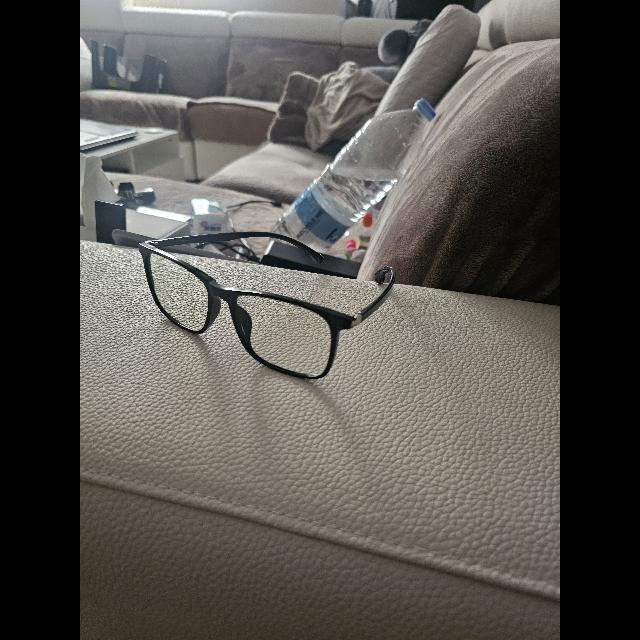glasses: (139, 232, 395, 378)
